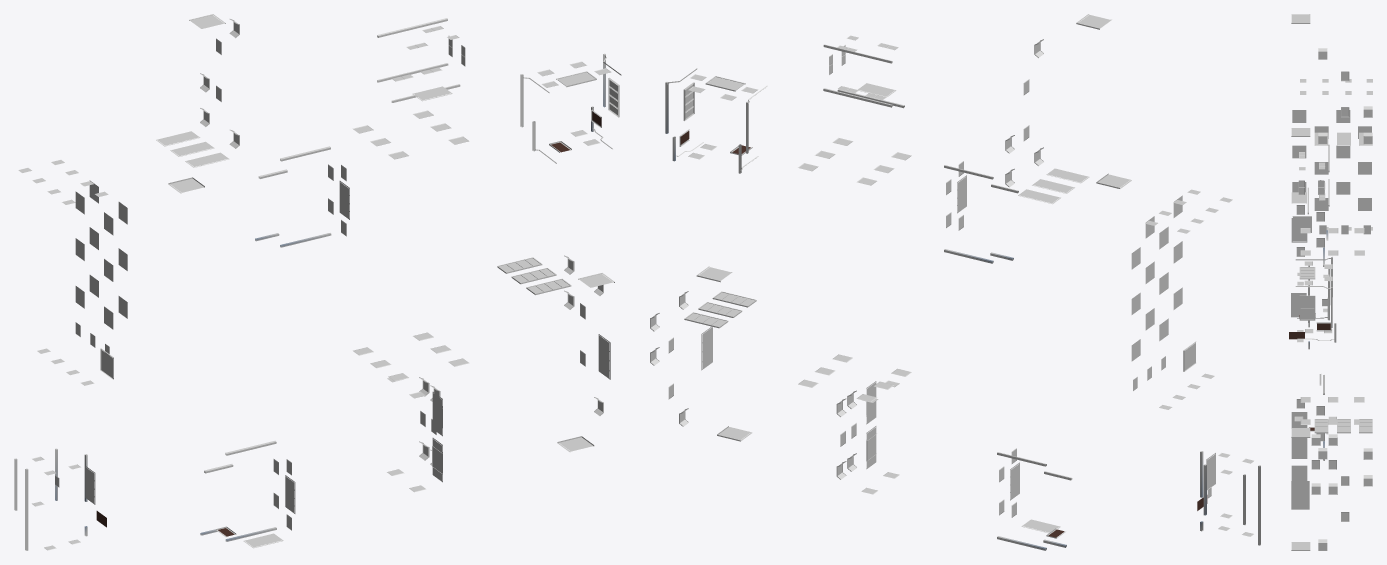
The picture shows the model from 3 angles, left to right: view 1: azimuth 30°, elevation 25°; view 2: azimuth 150°, elevation 25°; view 3: azimuth 270°, elevation 25°; orthographic projection. The views are drawn at different scales.
Parts seen in each view (by area): view 1: SM_000298.001; view 2: SM_000298.001; view 3: SM_000298.001.
Part boxes in pixels (x1=…): SM_000298.001: x1=14, y1=14, x2=621, y2=550; SM_000298.001: x1=650, y1=14, x2=1260, y2=550; SM_000298.001: x1=1289, y1=14, x2=1372, y2=550.
Size of the model in its own units: 66.4 by 57.57 by 10.64.
